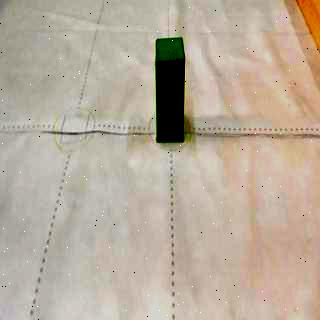greenbox: (156, 39, 182, 141)
